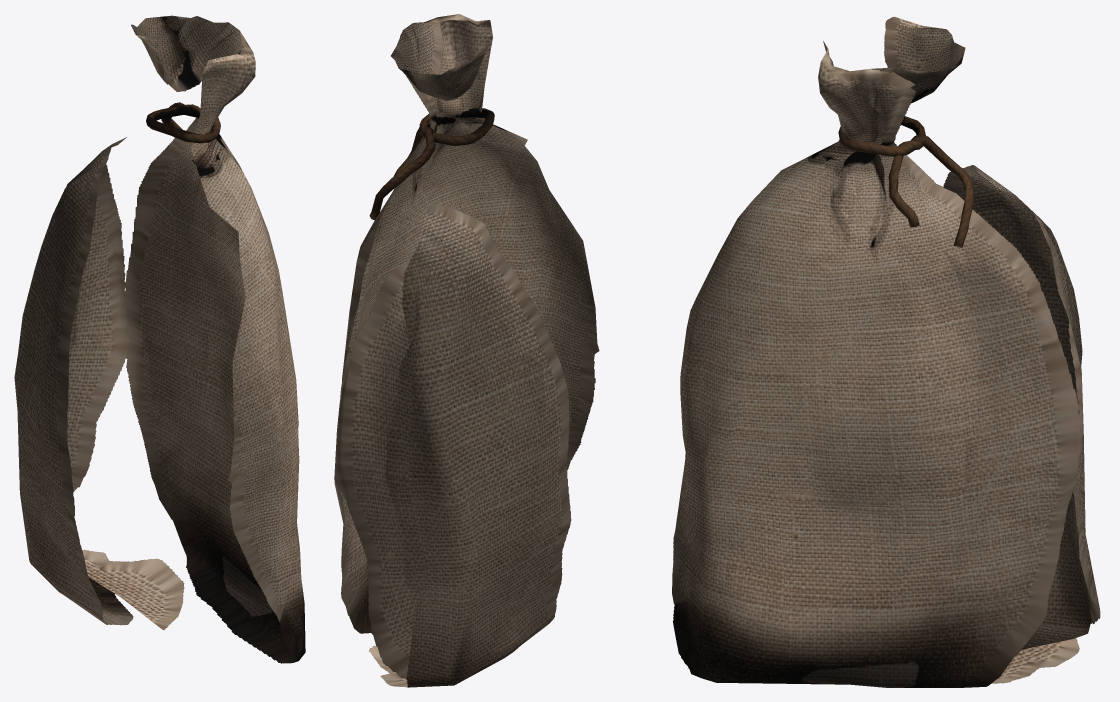
Rendered from sackClosed.dae.
3 views of the same model, side by side, from view 1: azimuth 30°, elevation 25°; view 2: azimuth 150°, elevation 25°; view 3: azimuth 270°, elevation 25° (orthographic). The views are drawn at different scales.
Visible parts, largest first — view 1: SackClosed; view 2: SackClosed; view 3: SackClosed.
Part boxes in pixels (<box>): SackClosed: <box>14,15,305,663</box>; SackClosed: <box>334,14,599,687</box>; SackClosed: <box>672,16,1100,687</box>.
Bounding box in the file's own units: 0.5902 × 1.13 × 1.78.
Materials: 1 (1 with a texture image).
